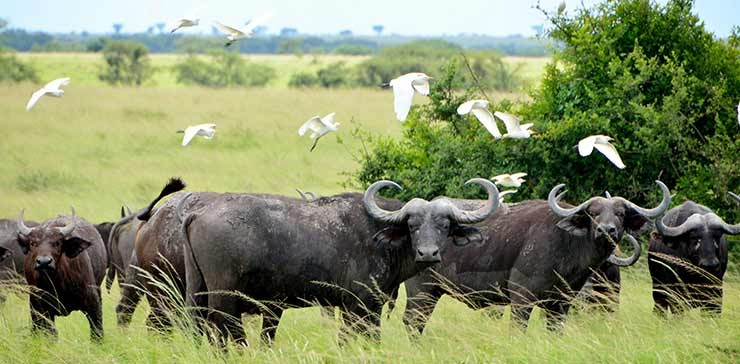bird: (378, 70, 436, 122), (20, 73, 77, 113), (294, 109, 344, 154), (211, 14, 268, 53), (574, 134, 633, 170), (457, 96, 503, 142), (493, 107, 547, 142), (173, 120, 223, 148), (166, 12, 206, 36)
buffalo: (389, 168, 670, 360), (177, 173, 502, 332), (643, 185, 740, 337), (14, 205, 108, 347)
